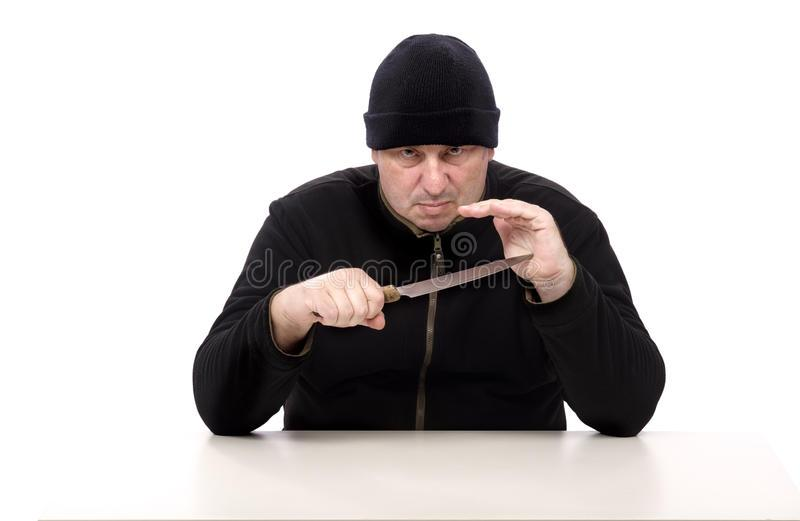criminal: (189, 29, 668, 439)
weapon: (370, 249, 539, 309)
